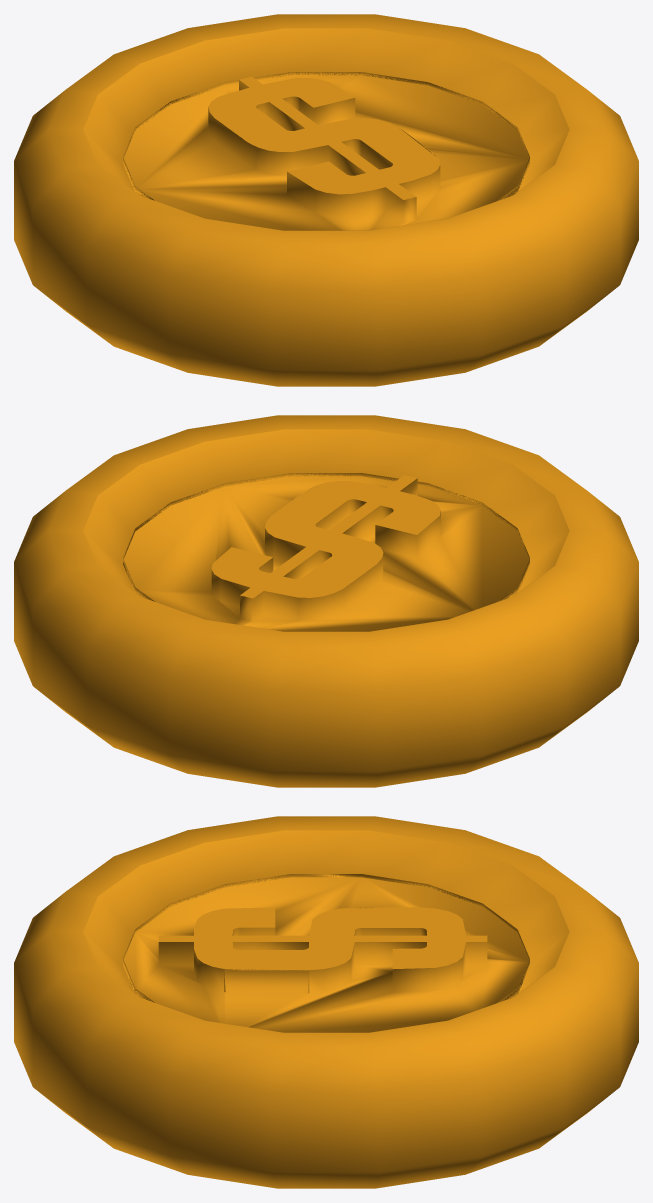
File: coin_new.glb
3 renders of one model, top to bottom at view 1: azimuth 30°, elevation 25°; view 2: azimuth 150°, elevation 25°; view 3: azimuth 270°, elevation 25°, orthographic.
Visible parts, largest first — view 1: Coin_New; view 2: Coin_New; view 3: Coin_New.
Boxes of the visible parts, <box> form: Coin_New: <box>14,14,638,386</box>; Coin_New: <box>14,415,638,787</box>; Coin_New: <box>14,816,638,1188</box>.
Bounding box in the file's own units: 1.97 × 0.5 × 2.
